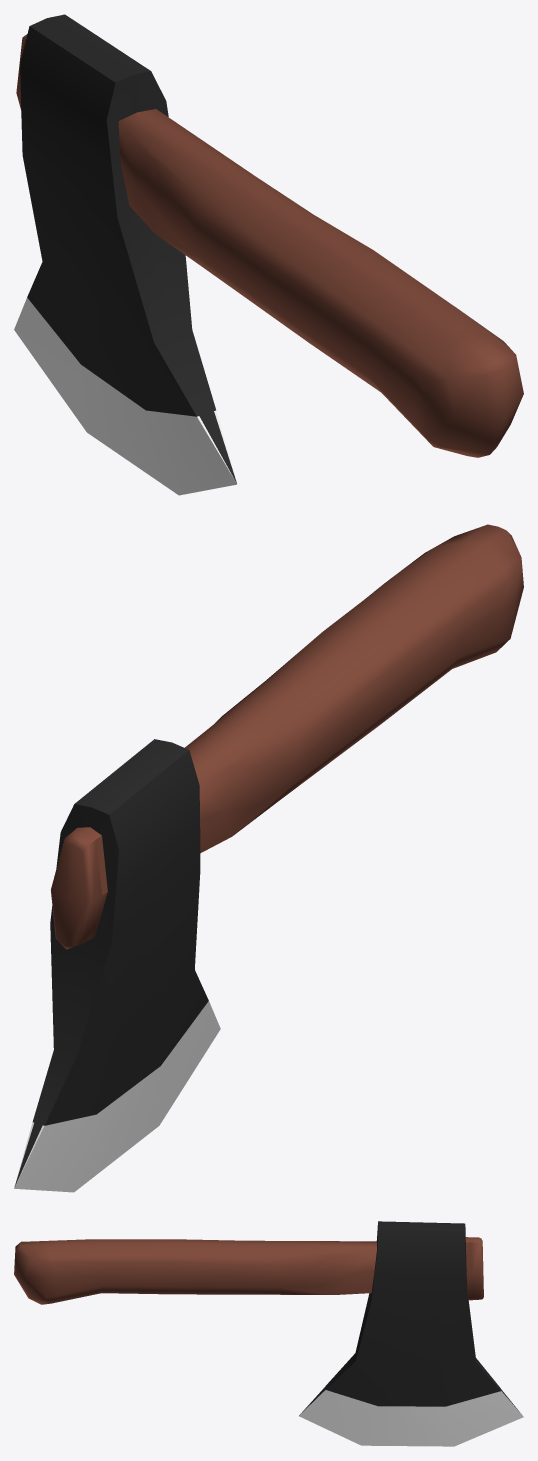
Rendered from Boss_axe_trowing.fbx.
3 views of the same model, one above another, from view 1: azimuth 30°, elevation 25°; view 2: azimuth 150°, elevation 25°; view 3: azimuth 270°, elevation 25° (orthographic). The views are drawn at different scales.
Visible parts, largest first — view 1: Vert.001; view 2: Vert.001; view 3: Vert.001.
Part boxes in pixels (x1,y1,x2,y2): Vert.001: [14, 14, 523, 495]; Vert.001: [14, 524, 523, 1192]; Vert.001: [14, 1221, 523, 1446].
Bounding box in the file's own units: 0.1144 × 1.06 × 0.4939.
